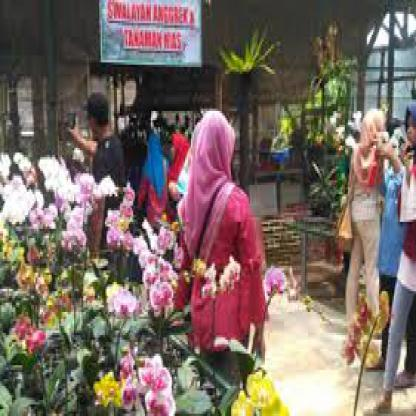ANGGREK: (1, 93, 306, 387)
